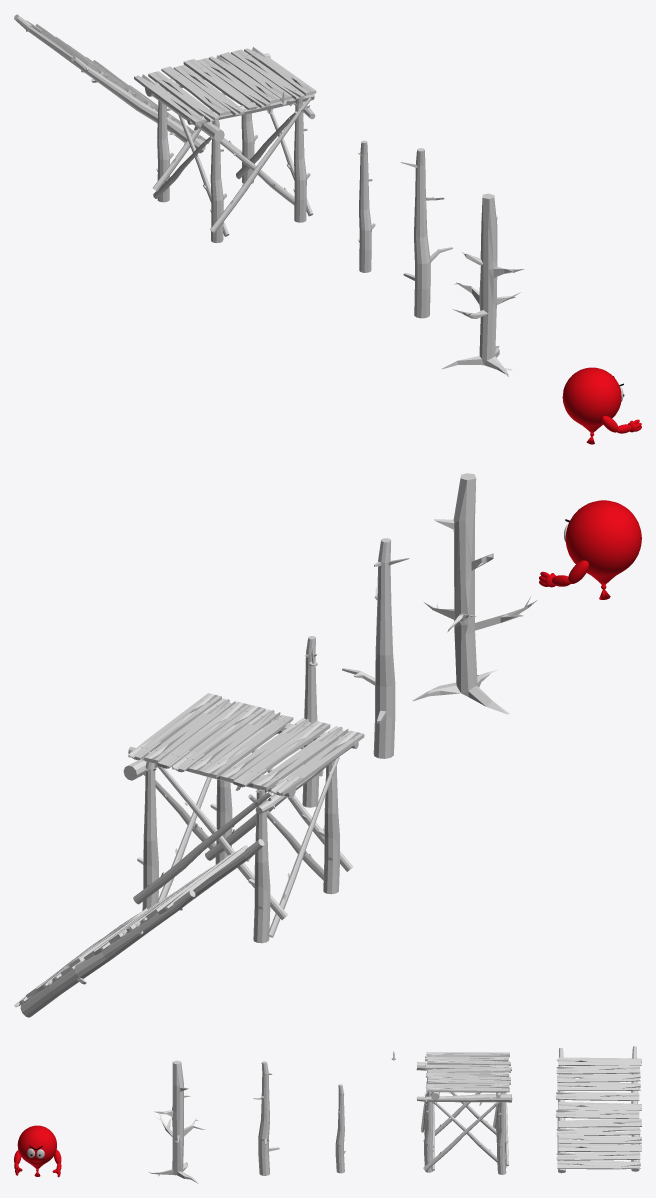
The model's file is tree-dead-1.fbx.
3 views of the same model, one above another, from view 1: azimuth 30°, elevation 25°; view 2: azimuth 150°, elevation 25°; view 3: azimuth 270°, elevation 25° (orthographic). The views are drawn at different scales.
Visible parts, largest first — view 1: Cylinder, R Pinky, Cylinder.001, Cylinder.002, Cylinder.019, Cylinder.003, Cylinder.006, Cylinder.004, Cylinder.015, Plank 1.003, Cube.003, Cube.005 (+9 smaller); view 2: Cylinder, R Pinky, Cylinder.001, Cylinder.020, Cylinder.004, Cylinder.005, Cylinder.006, Cube.003, Cube.005, Plank 1.004, Cylinder.018, Cylinder.002 (+11 smaller); view 3: Cylinder, R Pinky, Cylinder.001, Cube.011, Cube.007, Cube.006, Cube.010, Plank 1.010, Plank 1.005, Plank 1.008, Cube.009, Plank 1.006 (+22 smaller).
Part boxes in pixels (<box>): Cylinder: <box>442,193,524,376</box>; R Pinky: <box>562,367,641,444</box>; Cylinder.001: <box>401,148,452,318</box>; Cylinder.002: <box>358,140,375,272</box>; Cylinder.019: <box>71,56,205,153</box>; Cylinder.003: <box>292,98,310,222</box>; Cylinder.006: <box>209,120,226,243</box>; Cylinder.004: <box>156,100,173,202</box>; Cylinder.015: <box>210,97,311,233</box>; Plank 1.003: <box>183,59,257,109</box>; Cube.003: <box>134,74,205,124</box>; Cube.005: <box>148,71,218,121</box>; Cylinder: <box>412,473,537,714</box>; R Pinky: <box>539,500,641,599</box>; Cylinder.001: <box>342,538,409,758</box>; Cylinder.020: <box>20,890,195,1017</box>; Cylinder.004: <box>248,788,270,943</box>; Cylinder.005: <box>137,761,158,910</box>; Cylinder.006: <box>318,760,339,894</box>; Cube.003: <box>270,730,364,795</box>; Cube.005: <box>253,726,348,790</box>; Plank 1.004: <box>233,721,330,787</box>; Cylinder.018: <box>133,791,271,904</box>; Cylinder.002: <box>300,636,319,807</box>; Cylinder: <box>149,1060,204,1183</box>; R Pinky: <box>14,1125,61,1177</box>; Cylinder.001: <box>253,1061,279,1175</box>; Cube.011: <box>556,1065,640,1074</box>; Cube.007: <box>556,1151,640,1160</box>; Cube.006: <box>555,1110,639,1118</box>; Cube.010: <box>555,1092,639,1100</box>; Plank 1.010: <box>557,1074,640,1082</box>; Plank 1.005: <box>557,1160,640,1169</box>; Plank 1.008: <box>558,1118,641,1127</box>; Cube.009: <box>556,1126,640,1136</box>; Plank 1.006: <box>558,1135,641,1144</box>.
Bounding box in the file's own units: 646 × 636 × 3176.
